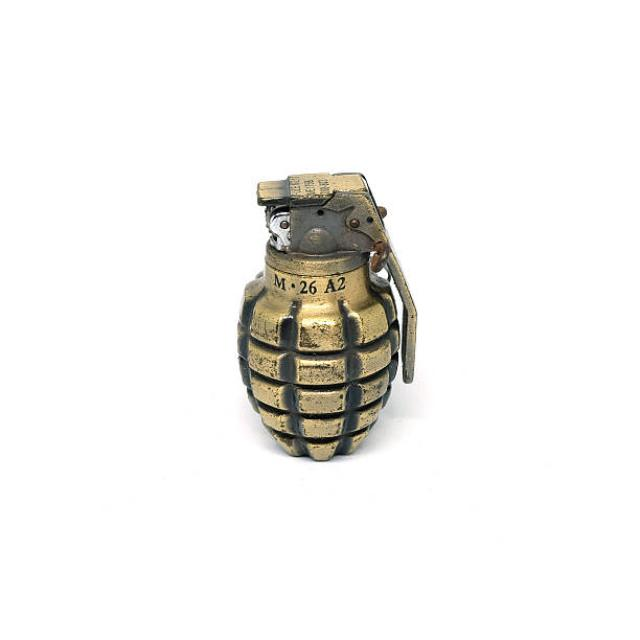grenade: (241, 167, 424, 471)
